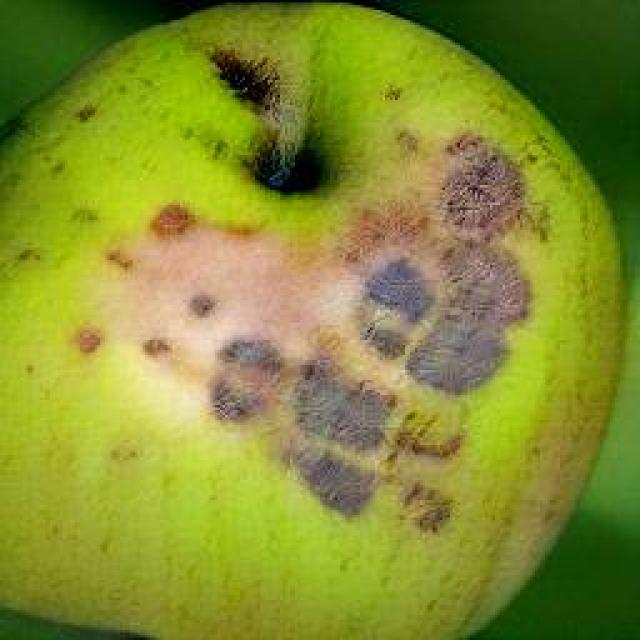defective: (0, 0, 628, 638)
